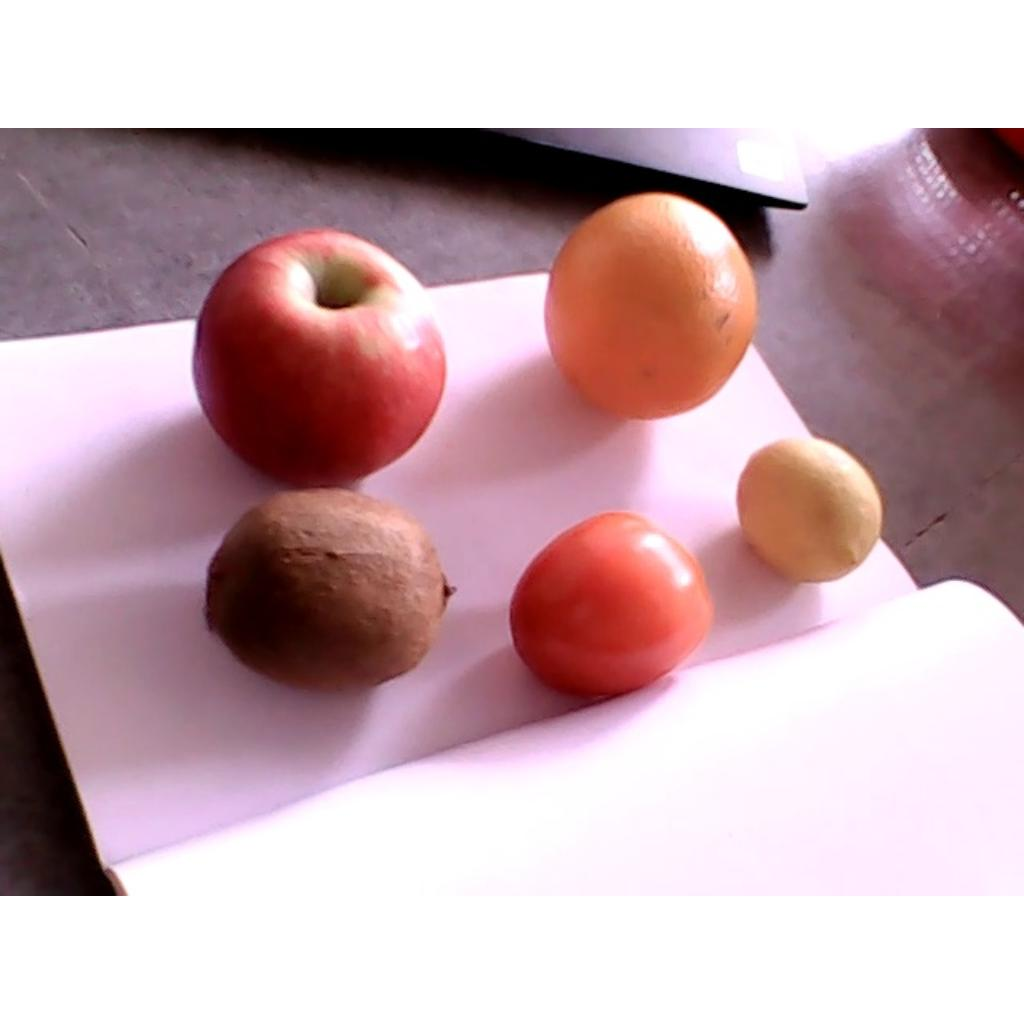apple: (192, 230, 448, 488)
kiwi: (204, 488, 460, 696)
lemon: (736, 439, 883, 586)
orange: (544, 193, 757, 423)
tomato: (511, 512, 714, 702)
